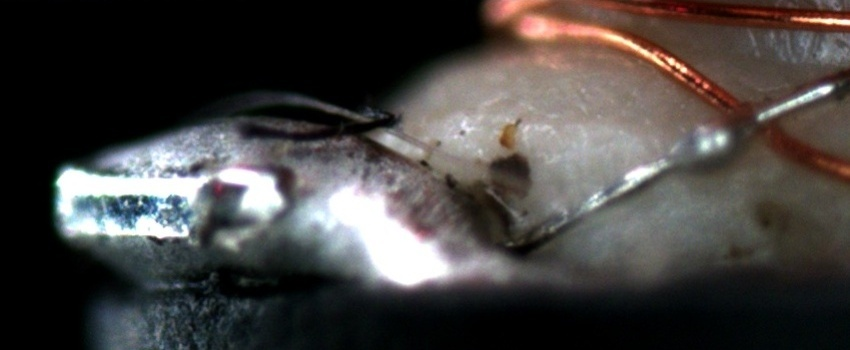TB: (656, 111, 751, 193)
TS: (508, 76, 846, 254)
TTCW: (498, 72, 849, 258)
